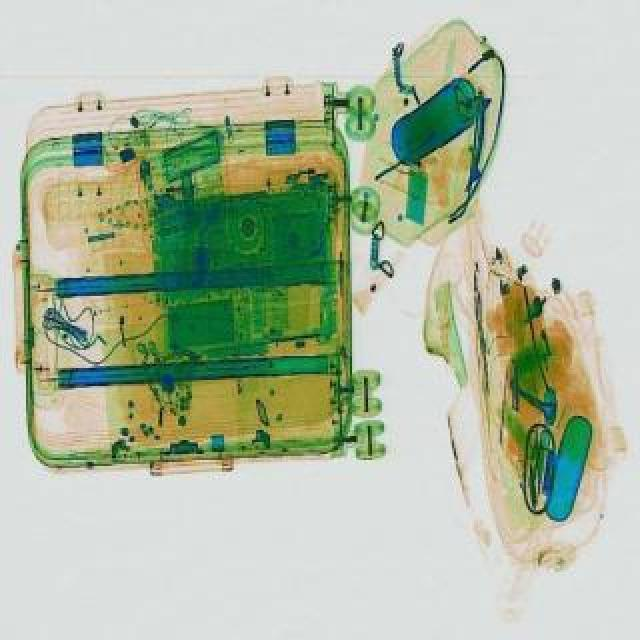pliers: (522, 424, 550, 502)
